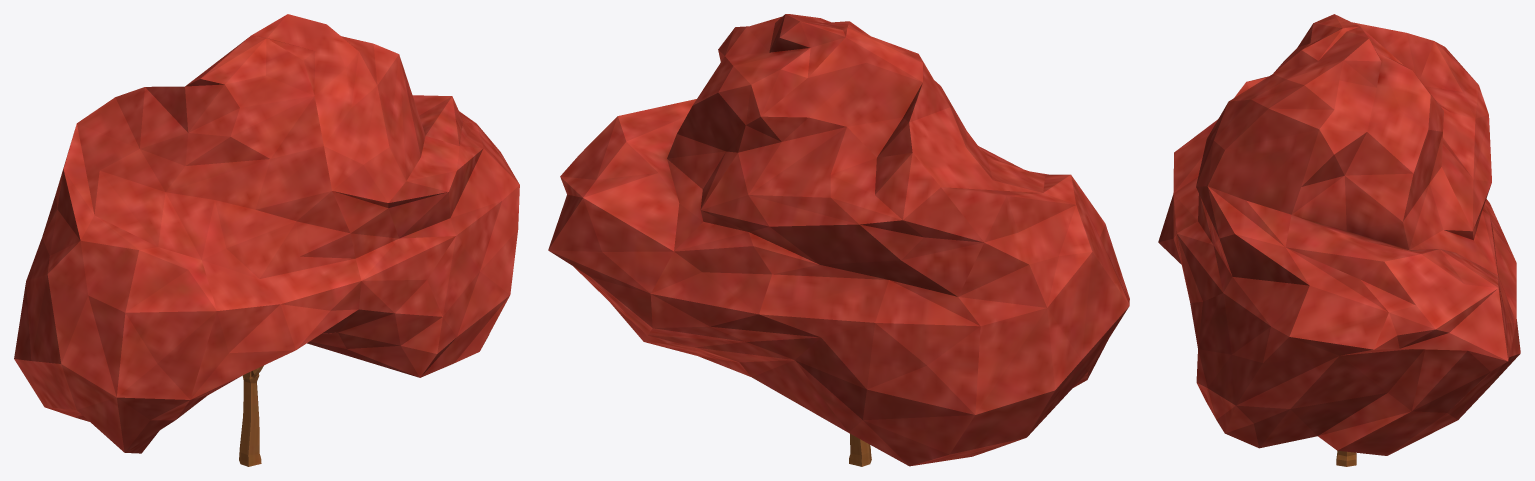
The model's file is maple_red.glb.
The picture shows the model from 3 angles, left to right: view 1: azimuth 30°, elevation 25°; view 2: azimuth 150°, elevation 25°; view 3: azimuth 270°, elevation 25°; orthographic projection. The views are drawn at different scales.
Parts seen in each view (by area): view 1: MapleTree_mesh; view 2: MapleTree_mesh; view 3: MapleTree_mesh.
Boxes of the visible parts, <box> form: MapleTree_mesh: <box>14,14,519,466</box>; MapleTree_mesh: <box>548,14,1129,466</box>; MapleTree_mesh: <box>1158,14,1520,466</box>.
Bounding box in the file's own units: 14.87 × 12.41 × 9.1.
Materials: 1 (1 with a texture image).
